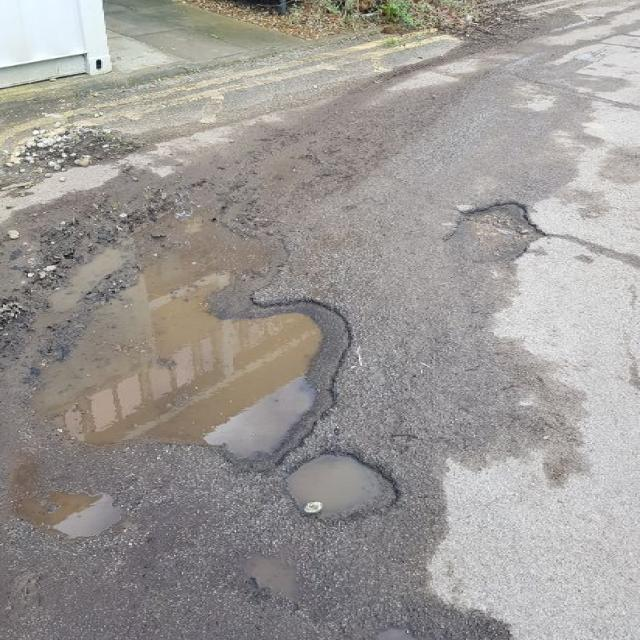Pothole: (27, 209, 366, 483), (276, 449, 409, 529), (441, 199, 547, 265)
